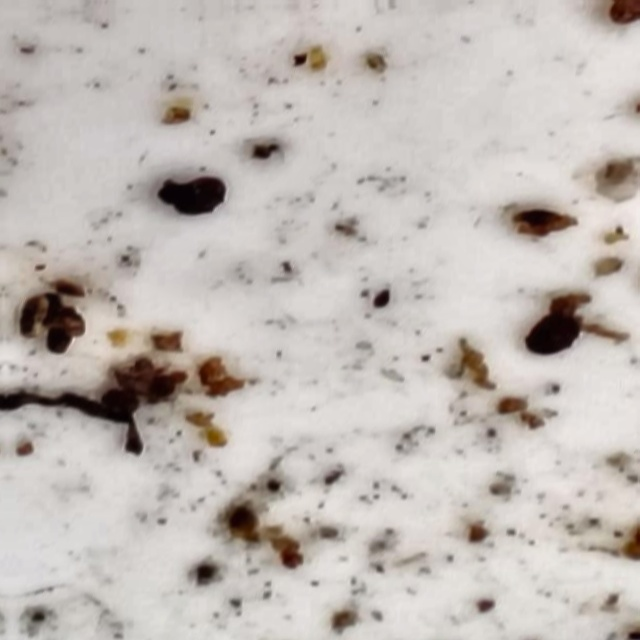varroa: (523, 309, 585, 359)
